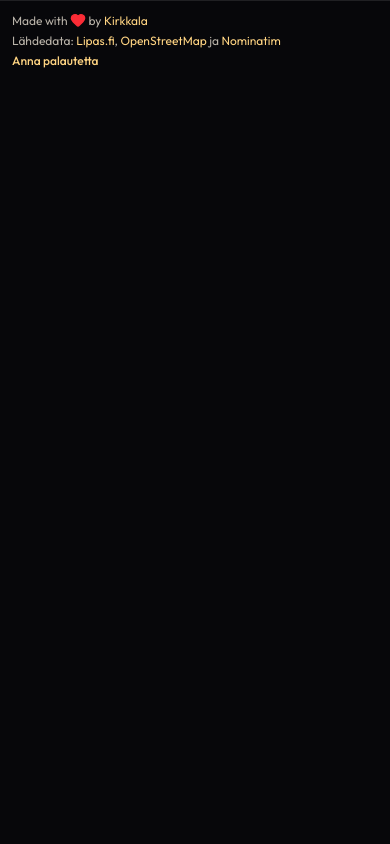
Test: the footer credit opens feedback instead of GitHub
This screenshot has width=390, height=844.
Click the button "Anna palautetta": (55, 61) [12,51,98,71]
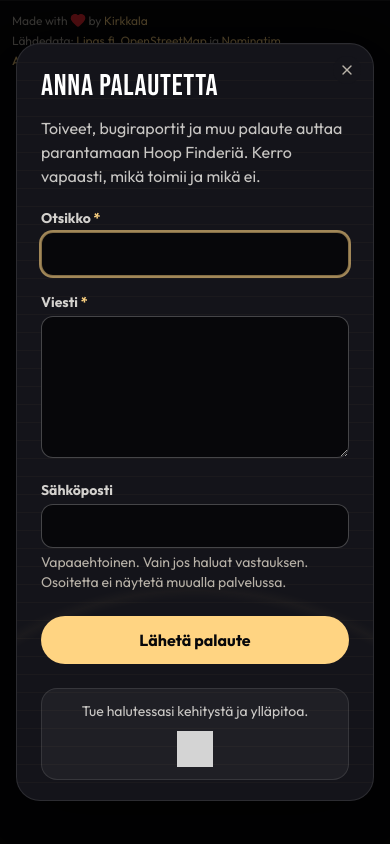
Expected: the heading "Anna palautetta" is shown, [41,68,218,104]
